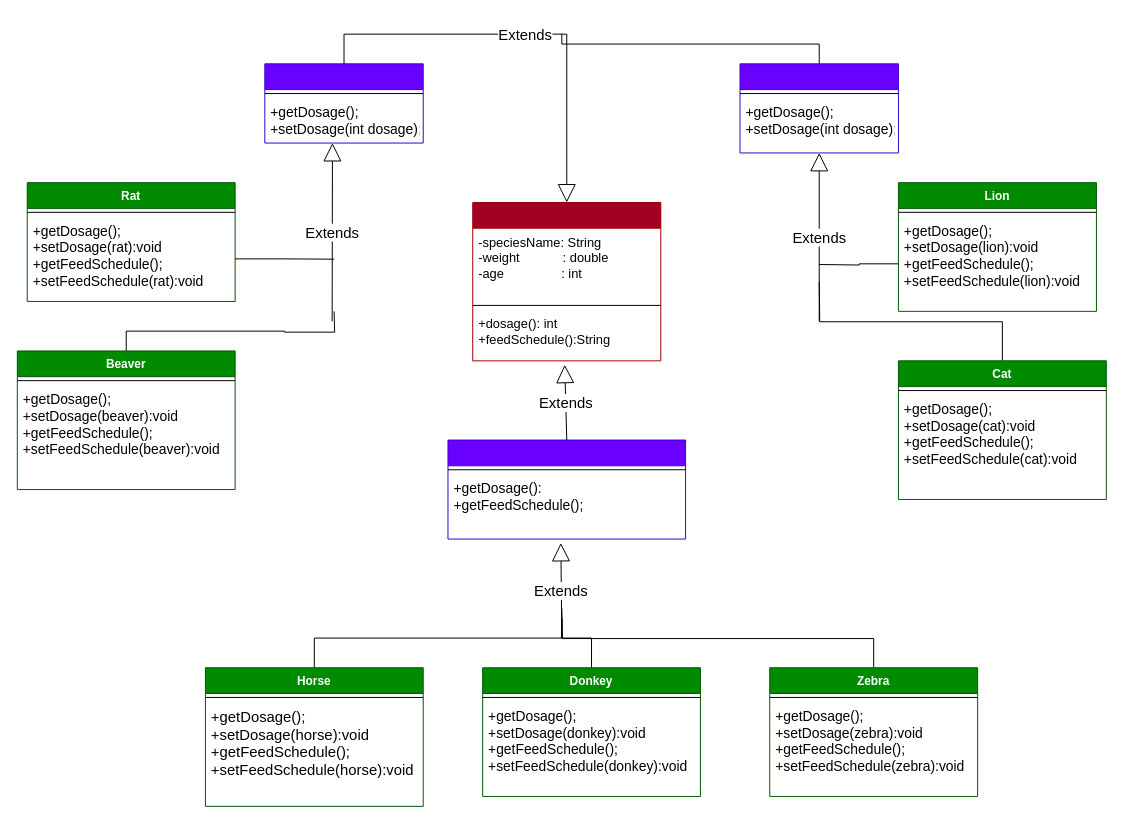
The diagram is 1124 pixels wide and 827 high, and some of its shapes have lost their labels. Each missing label, with the box of its shape:
Animals: (472, 201, 661, 361)
Felines: (739, 63, 898, 153)
Horses: (447, 439, 686, 539)
Rodents: (264, 63, 423, 143)
